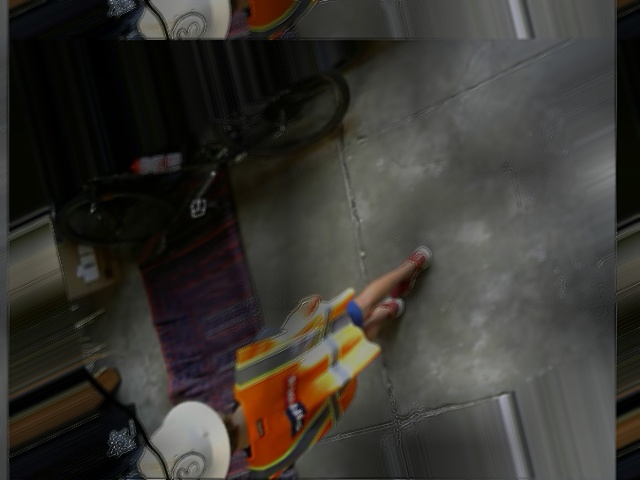three: (168, 446, 208, 479)
